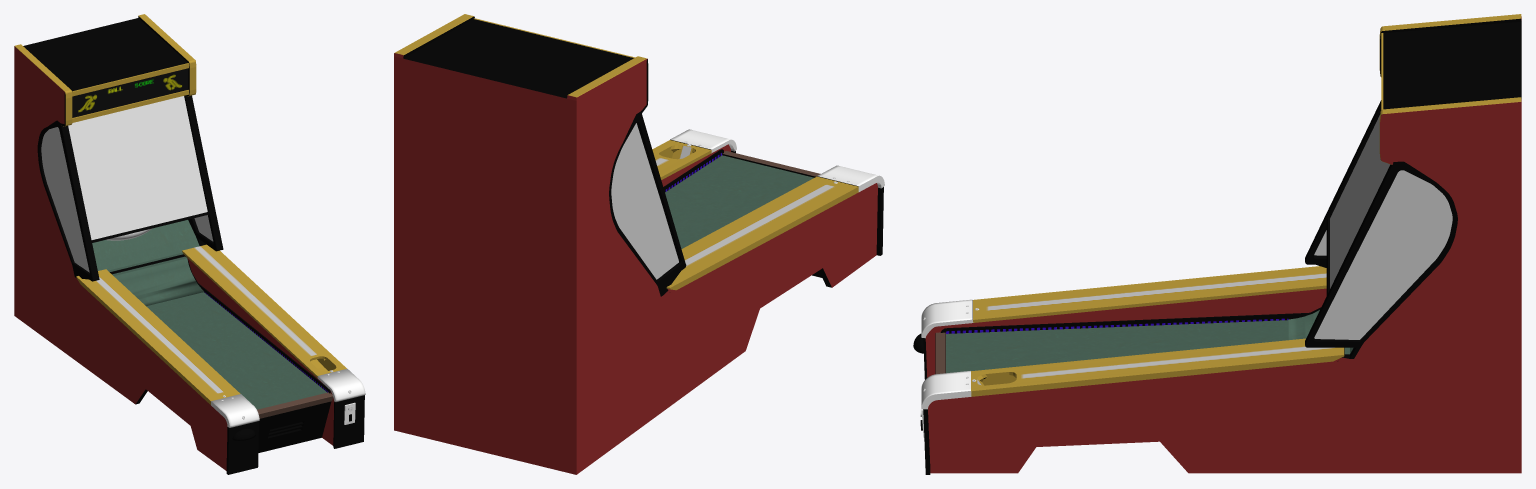
The model's file is SkeeBallbuenardo.fbx.
3 renders of one model, left to right at view 1: azimuth 30°, elevation 25°; view 2: azimuth 150°, elevation 25°; view 3: azimuth 270°, elevation 25°, orthographic. The views are drawn at different scales.
Visible parts, largest first — view 1: ArcadeSkeeball, Vidrios; view 2: ArcadeSkeeball, Vidrios; view 3: ArcadeSkeeball, Vidrios.
Boxes of the visible parts, <box> form: ArcadeSkeeball: <box>14,14,365,474</box>; Vidrios: <box>41,96,213,272</box>; ArcadeSkeeball: <box>394,14,884,474</box>; Vidrios: <box>611,123,678,279</box>; ArcadeSkeeball: <box>913,14,1521,474</box>; Vidrios: <box>1314,115,1452,339</box>.
Bounding box in the file's own units: 417 × 793 × 1176.
